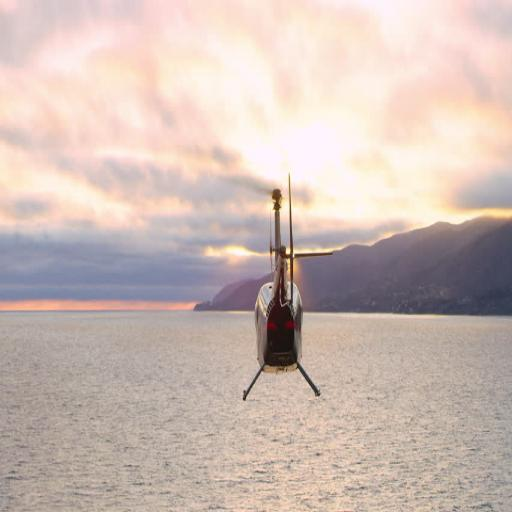helicopter: (243, 173, 326, 400)
